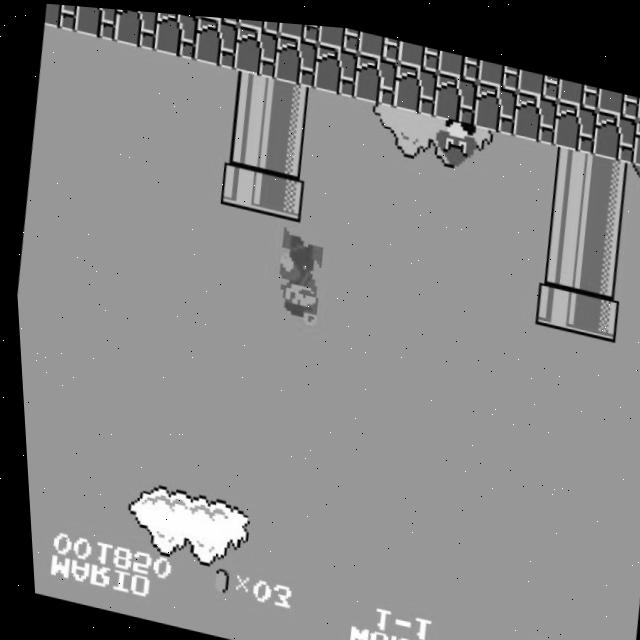0- big_mario: (264, 221, 326, 325)
14- pipe: (220, 110, 271, 165), (225, 65, 276, 120), (260, 119, 311, 174), (265, 74, 316, 129), (539, 180, 589, 235), (544, 136, 594, 191), (579, 189, 629, 244), (584, 145, 634, 200), (534, 226, 584, 280), (574, 235, 624, 289)
15- pipe_head: (568, 278, 619, 333), (255, 164, 306, 218), (529, 270, 579, 325), (216, 155, 266, 209)
17- undestructible_block: (310, 38, 361, 93), (350, 47, 401, 102), (509, 82, 560, 137), (549, 91, 600, 146), (430, 64, 480, 120), (231, 20, 281, 75), (271, 29, 321, 84), (390, 55, 440, 110), (470, 73, 520, 128), (589, 100, 639, 155), (191, 12, 241, 66), (151, 10, 201, 58), (112, 7, 162, 49), (72, 5, 121, 40), (475, 51, 521, 83), (515, 60, 561, 92), (356, 25, 401, 57), (396, 34, 441, 66), (436, 43, 481, 75), (555, 69, 600, 101), (595, 78, 640, 110), (316, 20, 361, 48), (43, 3, 81, 31), (277, 18, 322, 40), (237, 15, 282, 30), (628, 108, 640, 161), (198, 13, 242, 22)
8- goomba: (427, 107, 480, 165)
